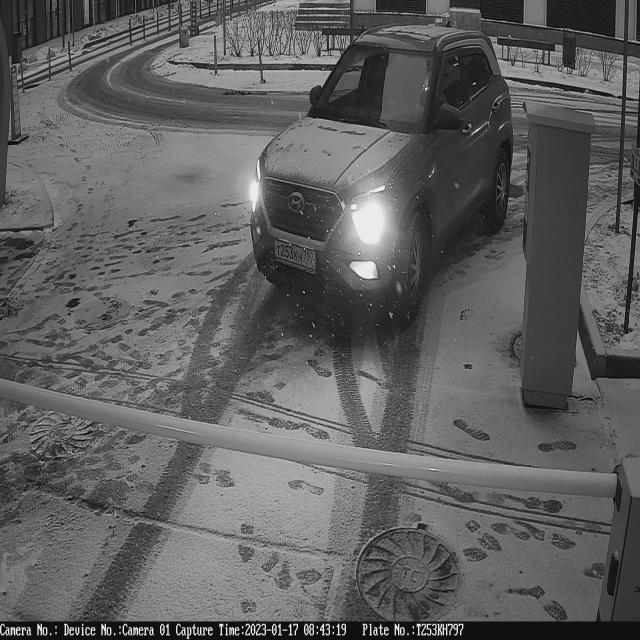car-plate-numbers: (270, 232, 319, 280)
